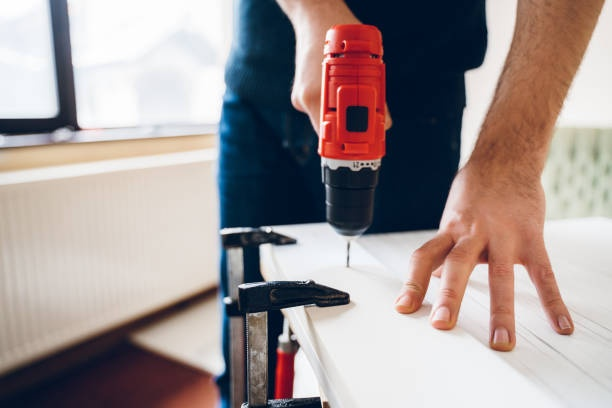driller: (307, 21, 391, 269)
